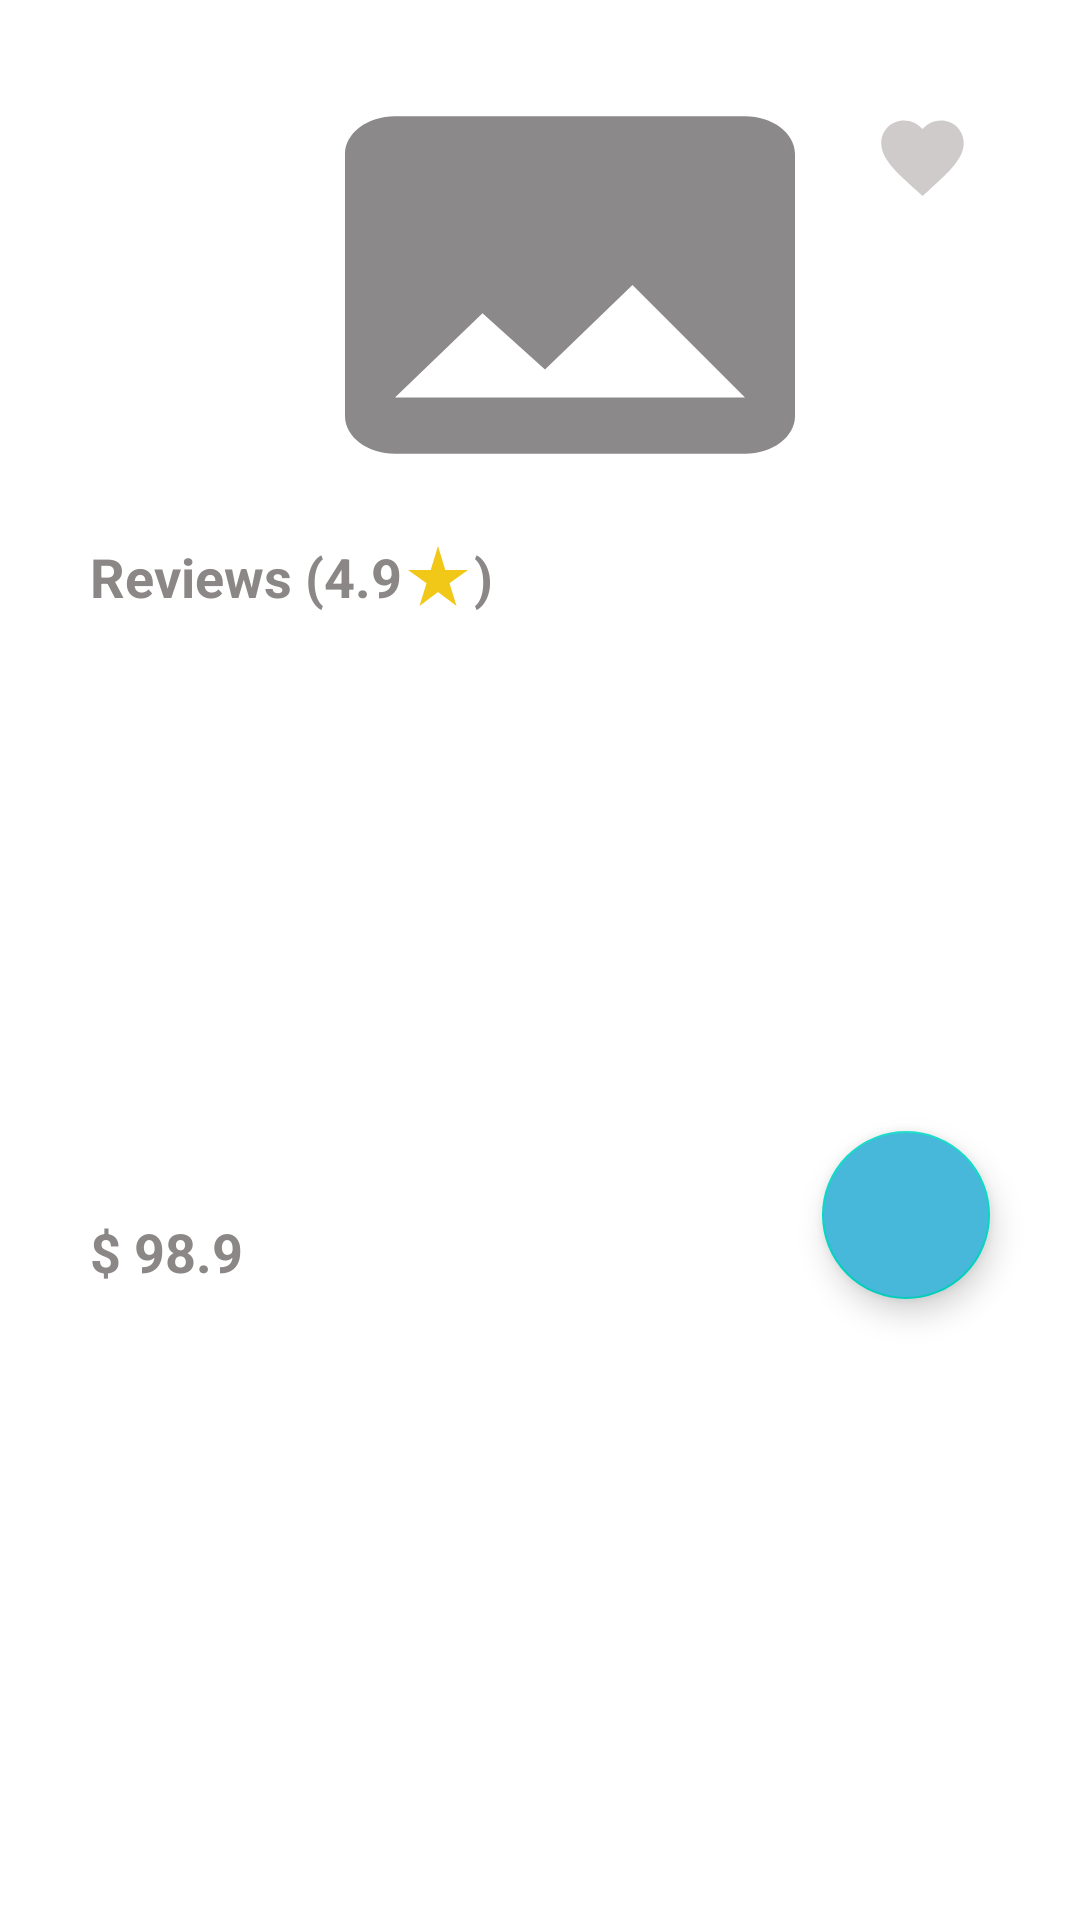

Screen size 1080px×1920px. Icon name, then its box in pixels as rect(x1, y1, x2, y2):
favourite: rect(881, 120, 964, 196)
